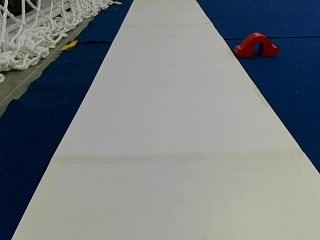bridge: (236, 33, 278, 56)
